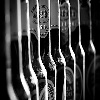beer: (46, 1, 68, 99)
